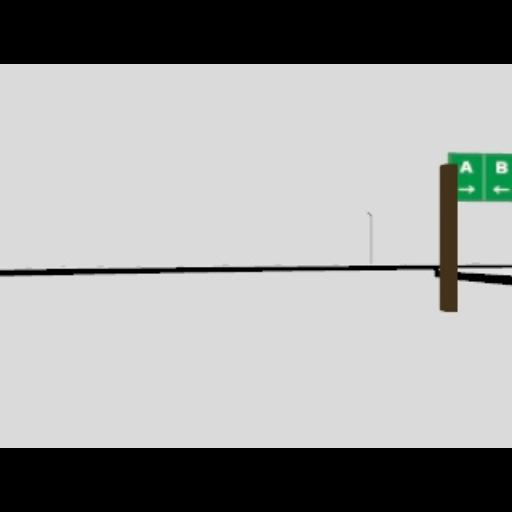A: (460, 160, 474, 174)
B: (495, 162, 509, 174)
Left: (492, 186, 510, 194)
Right: (458, 186, 476, 194)
